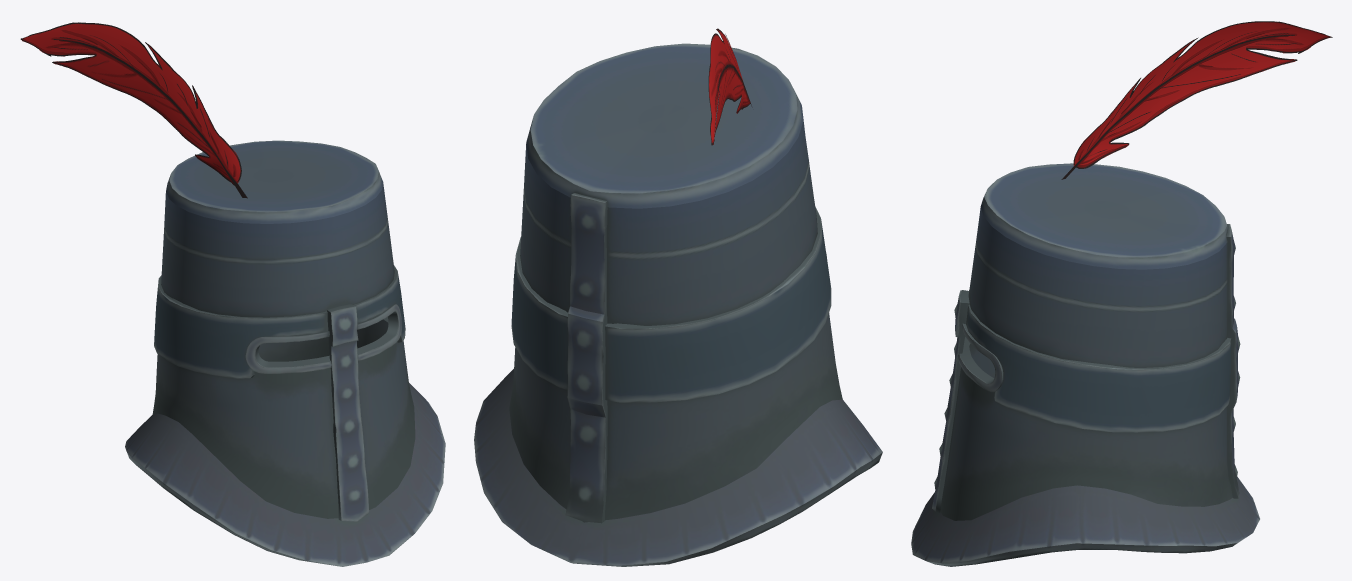
The picture shows the model from 3 angles, left to right: view 1: azimuth 30°, elevation 25°; view 2: azimuth 150°, elevation 25°; view 3: azimuth 270°, elevation 25°; orthographic projection. The views are drawn at different scales.
Parts seen in each view (by area): view 1: Plano.006, pluma; view 2: Plano.006, pluma; view 3: Plano.006, pluma.
Boxes of the visible parts, box(x1,y1,x2,y2) form: Plano.006: box(125, 140, 445, 566); pluma: box(20, 22, 247, 198); Plano.006: box(474, 43, 882, 566); pluma: box(708, 28, 752, 145); Plano.006: box(911, 163, 1259, 566); pluma: box(1061, 21, 1332, 179).
Size of the model in its own units: 1.99 by 2.99 by 2.42.
Materials: 2 (2 with a texture image).
